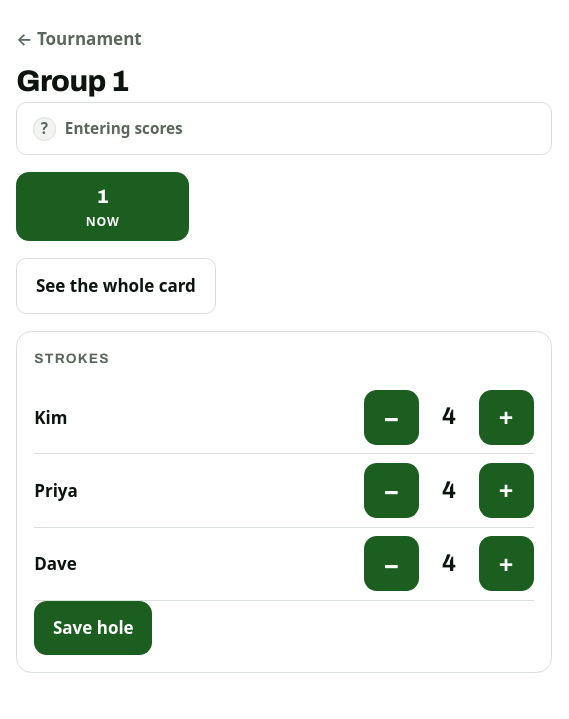
Test: score entry › re-posts the same hole with the pin answer
The width and height of the screenshot is (569, 719).
Note: Dave takes 5, so the fixture's two-way tie is what these strokes imply.
Click the button named "one more for Dave" at (506, 564), box x1=478 y1=536 x2=534 y2=592
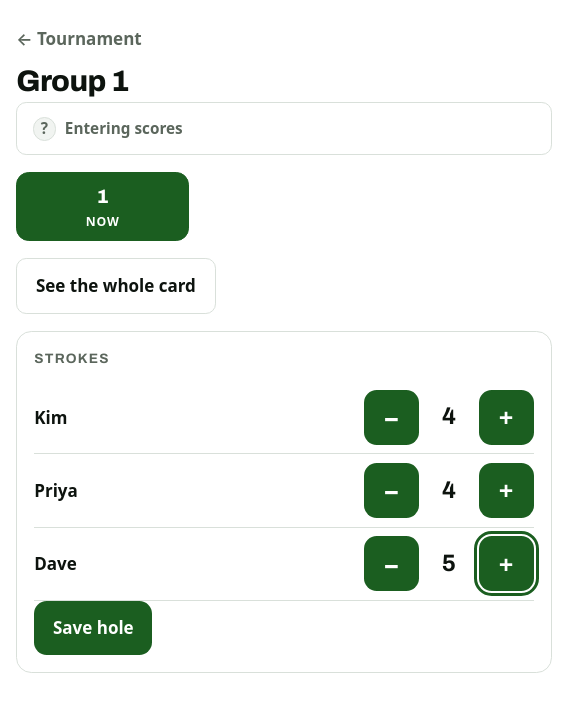
Click the button "Save hole" at (93, 628), box x1=34 y1=601 x2=152 y2=655
(page scrolled)
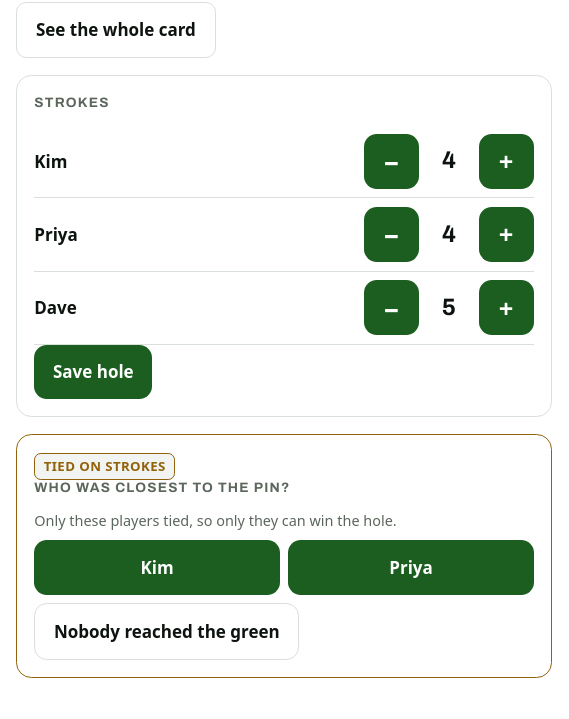
Click the button "Priya" at (411, 568), box x1=288 y1=540 x2=534 y2=595
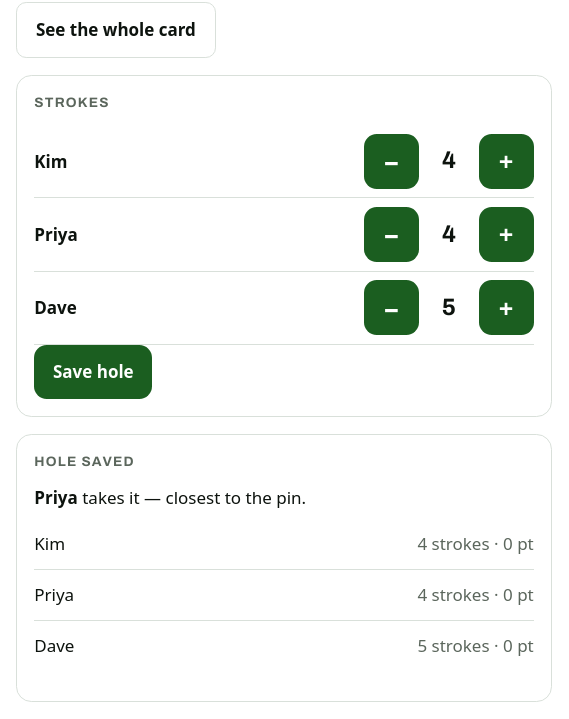
Expected: the text "Priya takes it — closest to the pin." is shown, x1=34 y1=486 x2=306 y2=509
